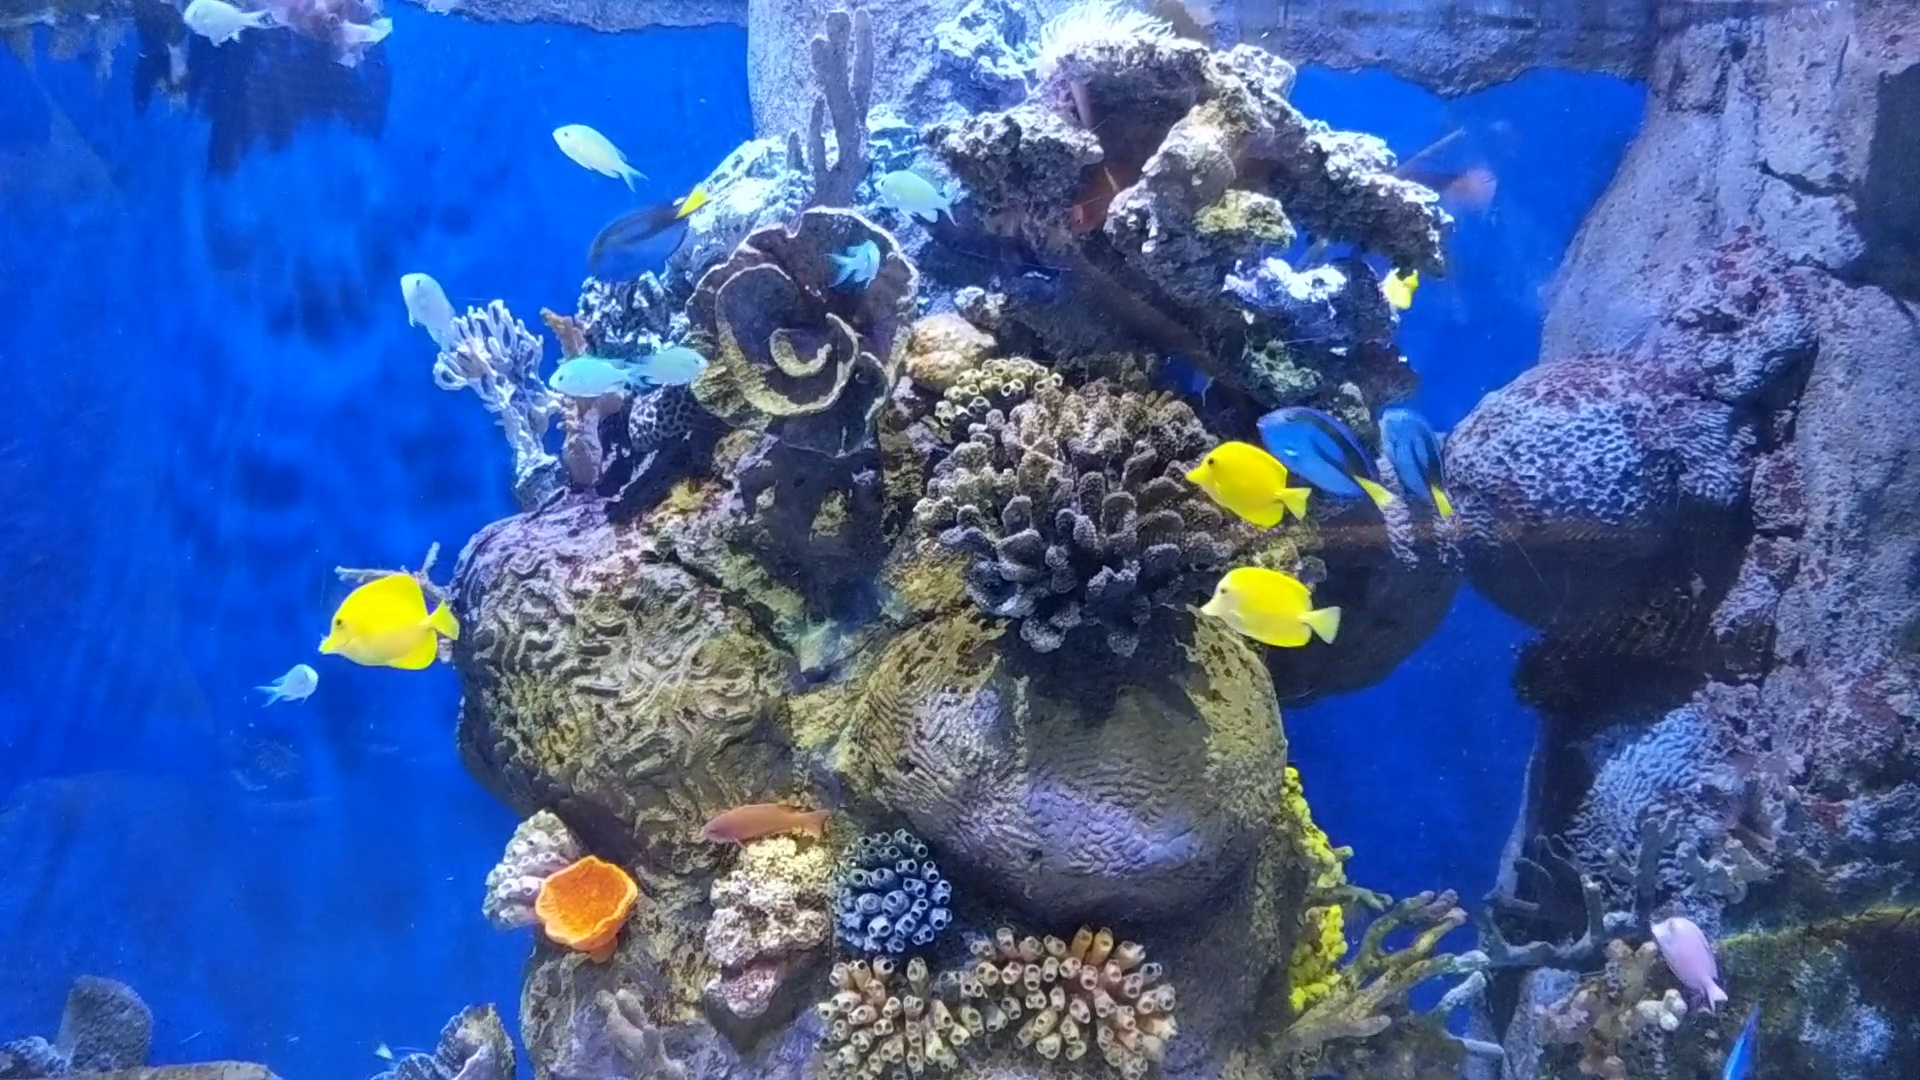blue tang surgeonfish: (1255, 394, 1398, 524), (1374, 402, 1460, 520)
damselfish: (527, 102, 647, 200), (386, 251, 480, 360), (534, 336, 647, 406), (858, 156, 965, 229), (819, 219, 895, 294), (634, 340, 717, 396), (247, 650, 318, 712), (175, 0, 264, 41)
pink fish: (698, 781, 841, 853)
saddle butterfly fish: (1179, 425, 1313, 545), (318, 574, 464, 682), (1195, 558, 1350, 658)
